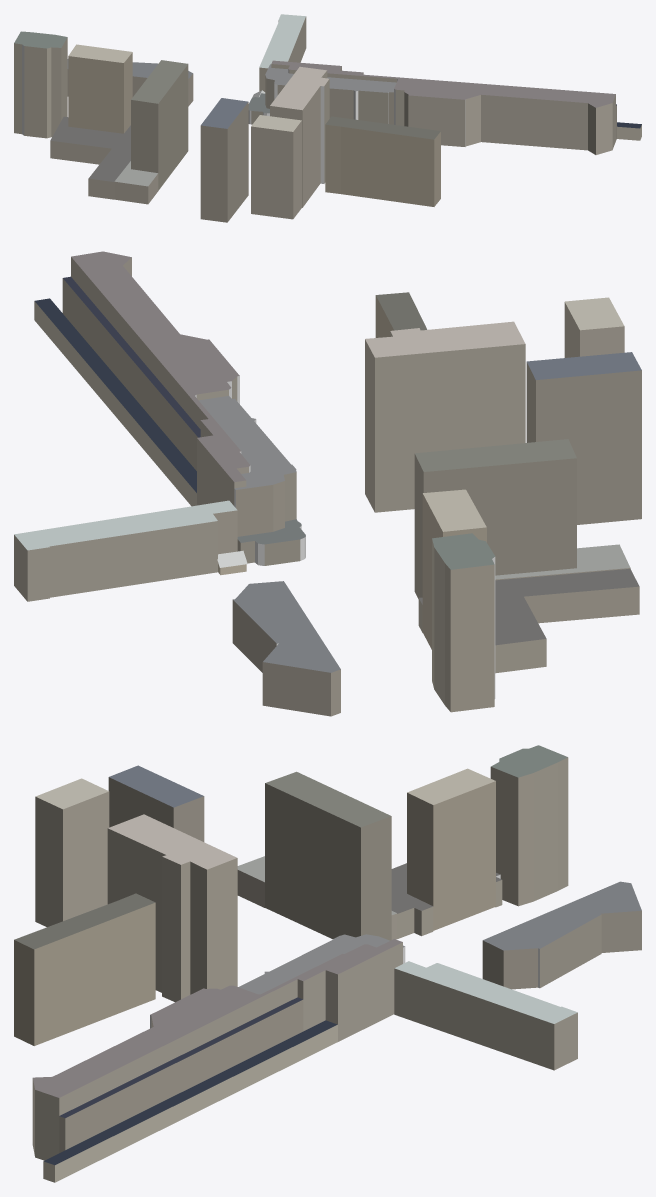
3 renders of one model, top to bottom at view 1: azimuth 30°, elevation 25°; view 2: azimuth 150°, elevation 25°; view 3: azimuth 270°, elevation 25°, orthographic. The views are drawn at different scales.
Visible parts, largest first — view 1: tuile; view 2: tuile; view 3: tuile.
Part boxes in pixels (x1,y1,x2,y2): tuile: [14, 14, 641, 222]; tuile: [14, 251, 641, 716]; tuile: [14, 745, 641, 1182].
Bounding box in the file's own units: 325 × 69.63 × 264.
